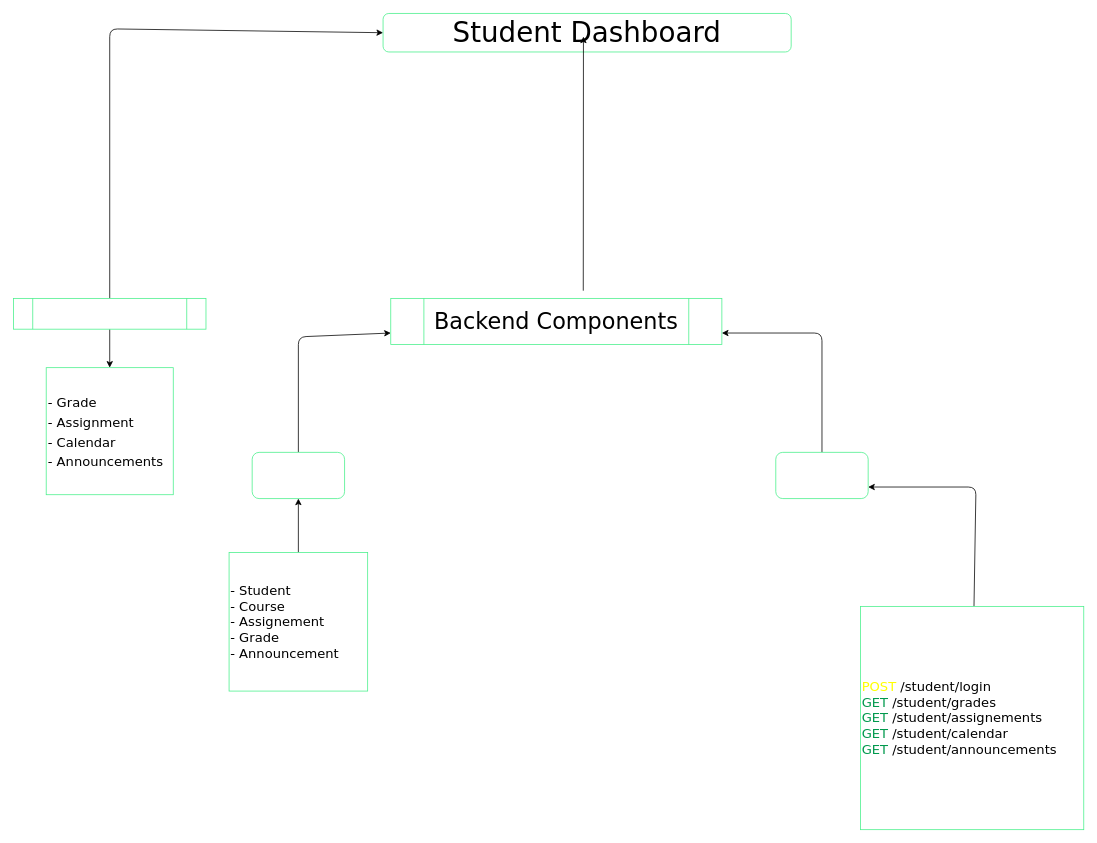
Image size: 1097x843. Some labels were removed from this diagram. The shapes that lost their labels are listed below. From the top down, each one's box as (x1, y1, x2, y2) in pixels, then its label:
(13, 298, 206, 329): Components
(251, 452, 345, 499): Models
(775, 452, 868, 499): APIs
